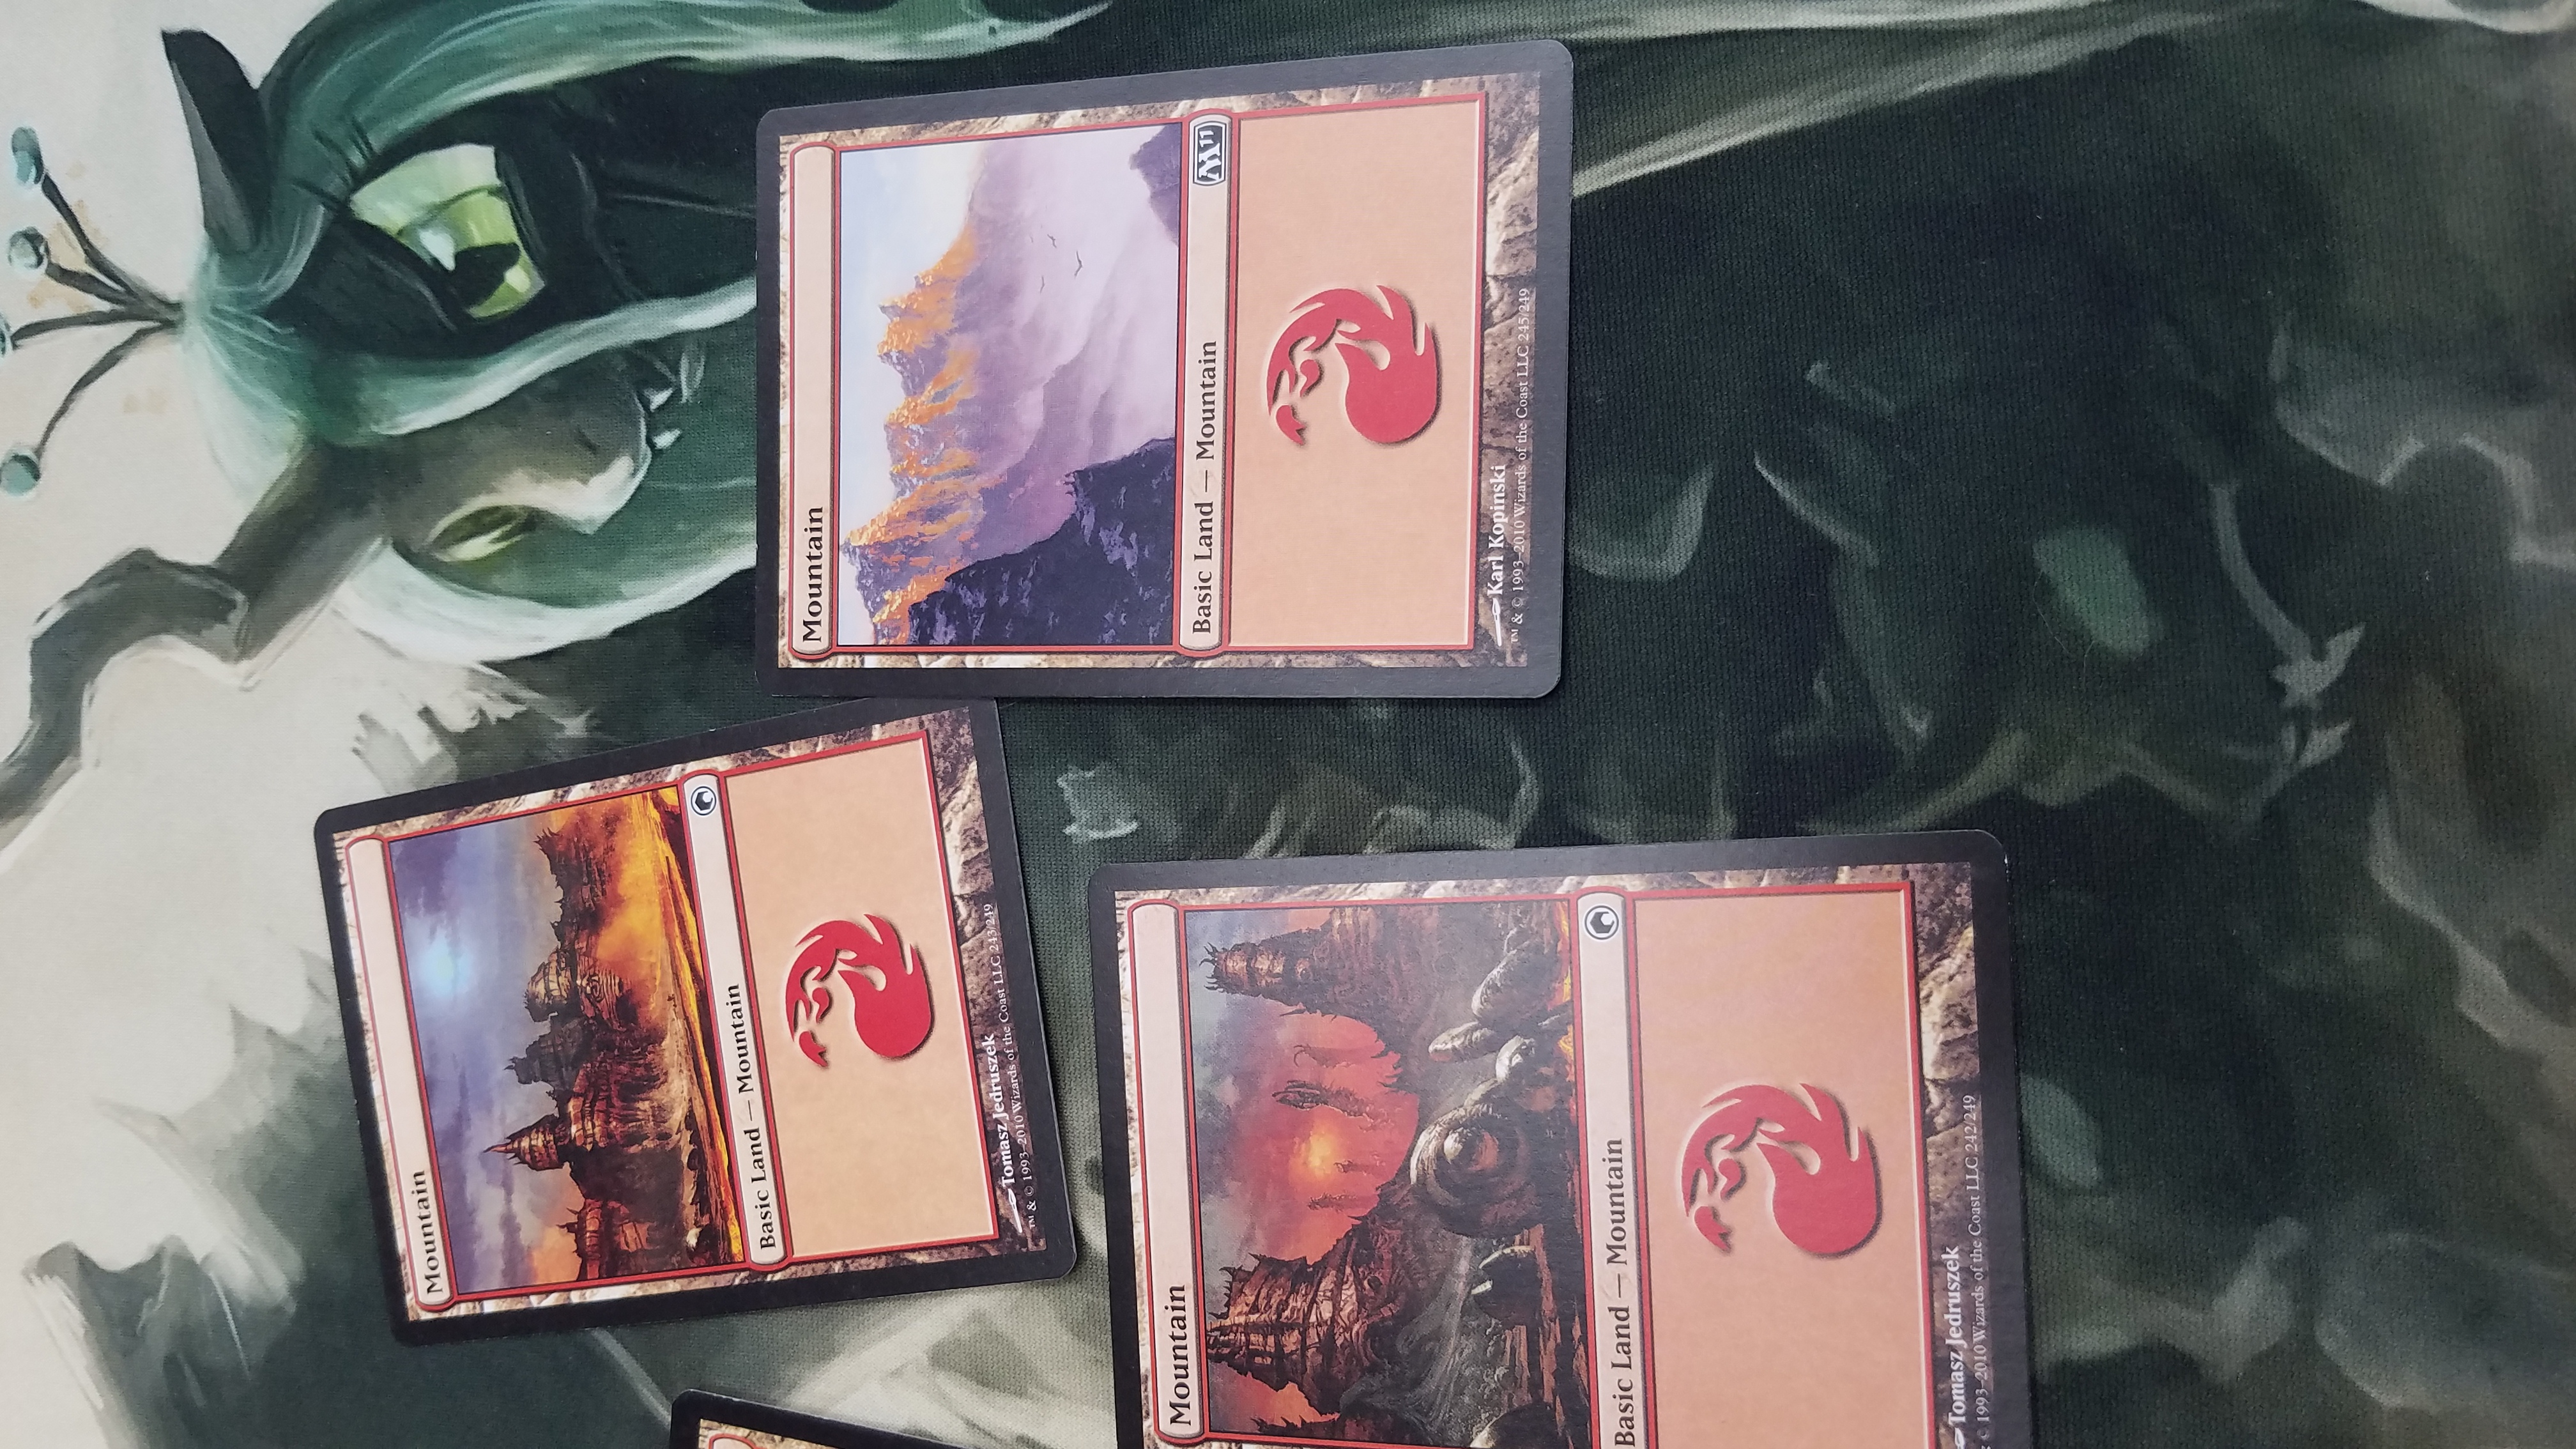Card: (1076, 828, 2047, 1449), (747, 27, 1587, 708), (315, 685, 1083, 1352)
